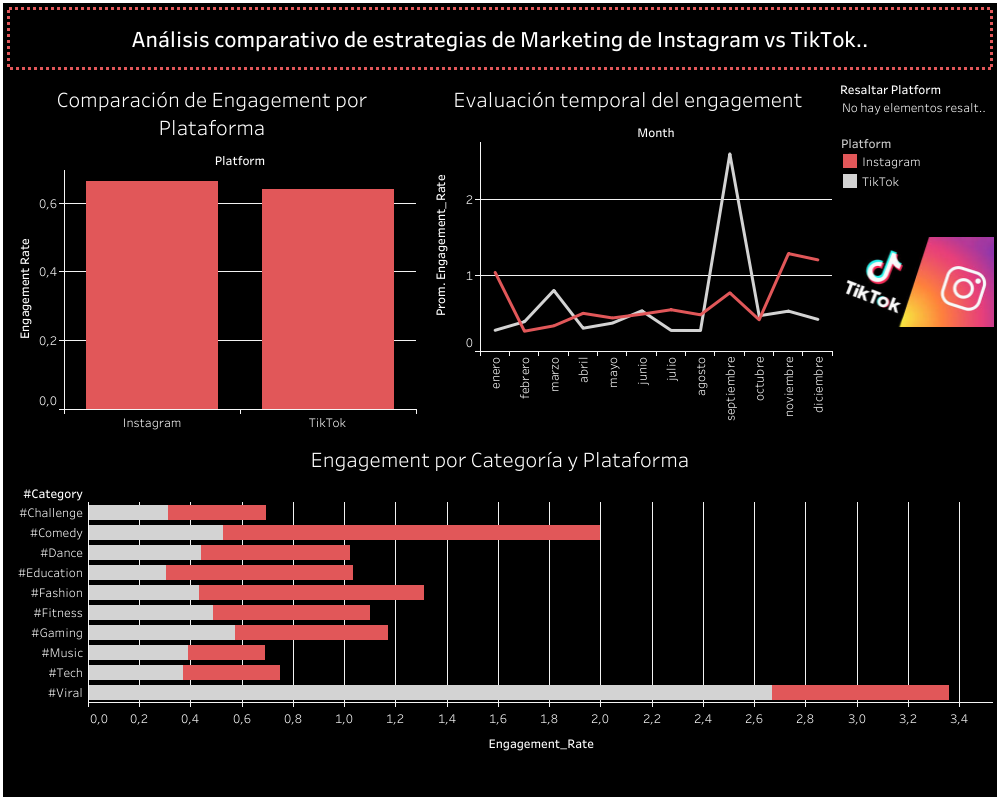

Layout of this report page (visuals, bound fields, positions):
{"tool":"tableau","page":{"name":"Análisis comparativo de estrategias de Marketing de Instagram vs TikTok","canvas":[1000,800],"ordinal":0},"visuals":[{"type":"title","box":[3,3,994,71]},{"type":"worksheet","title":"Comparación de Engagement por Plataforma","mark":"Automatic","rows":["Calculation_1055545999020242"],"cols":["Platform"],"box":[4,75,416,360.4]},{"type":"worksheet","title":"Evaluación temporal del engagement","mark":"Automatic","rows":["Calculation_1055545999020242"],"cols":["Calculation_1055546000982227"],"box":[420,75,416,360.4]},{"type":"highlighter","title":"Comparación de Engagement por Plataforma","param":"[federated.1b8udjk0yh142u1714f9b1c70o8f].[none:Platform:nk]","box":[836,75,160,53]},{"type":"legend","title":"Engagement por Categoría y Plataforma","param":"[federated.1b8udjk0yh142u1714f9b1c70o8f].[none:Platform:nk]","box":[836,128,160,67]},{"type":"image","param":"Image/descarga.jpg","box":[836,195,160,174]},{"type":"worksheet","title":"Engagement por Categoría y Plataforma","mark":"Automatic","rows":["Hashtag"],"cols":["Calculation_1055545999020242"],"box":[4,435.4,992,360.6]}]}

Visuals, with their boxes in screenshot pixels (x1, y1, x2, y2), scaled from the page's 1000x800 canvas onto the 999x799 screenshot:
title: box(3, 3, 996, 74)
"Comparación de Engagement por Plataforma" worksheet: box(4, 75, 420, 435)
"Evaluación temporal del engagement" worksheet: box(420, 75, 835, 435)
"Comparación de Engagement por Plataforma" highlighter: box(835, 75, 995, 128)
"Engagement por Categoría y Plataforma" legend: box(835, 128, 995, 195)
image: box(835, 195, 995, 369)
"Engagement por Categoría y Plataforma" worksheet: box(4, 435, 995, 795)
